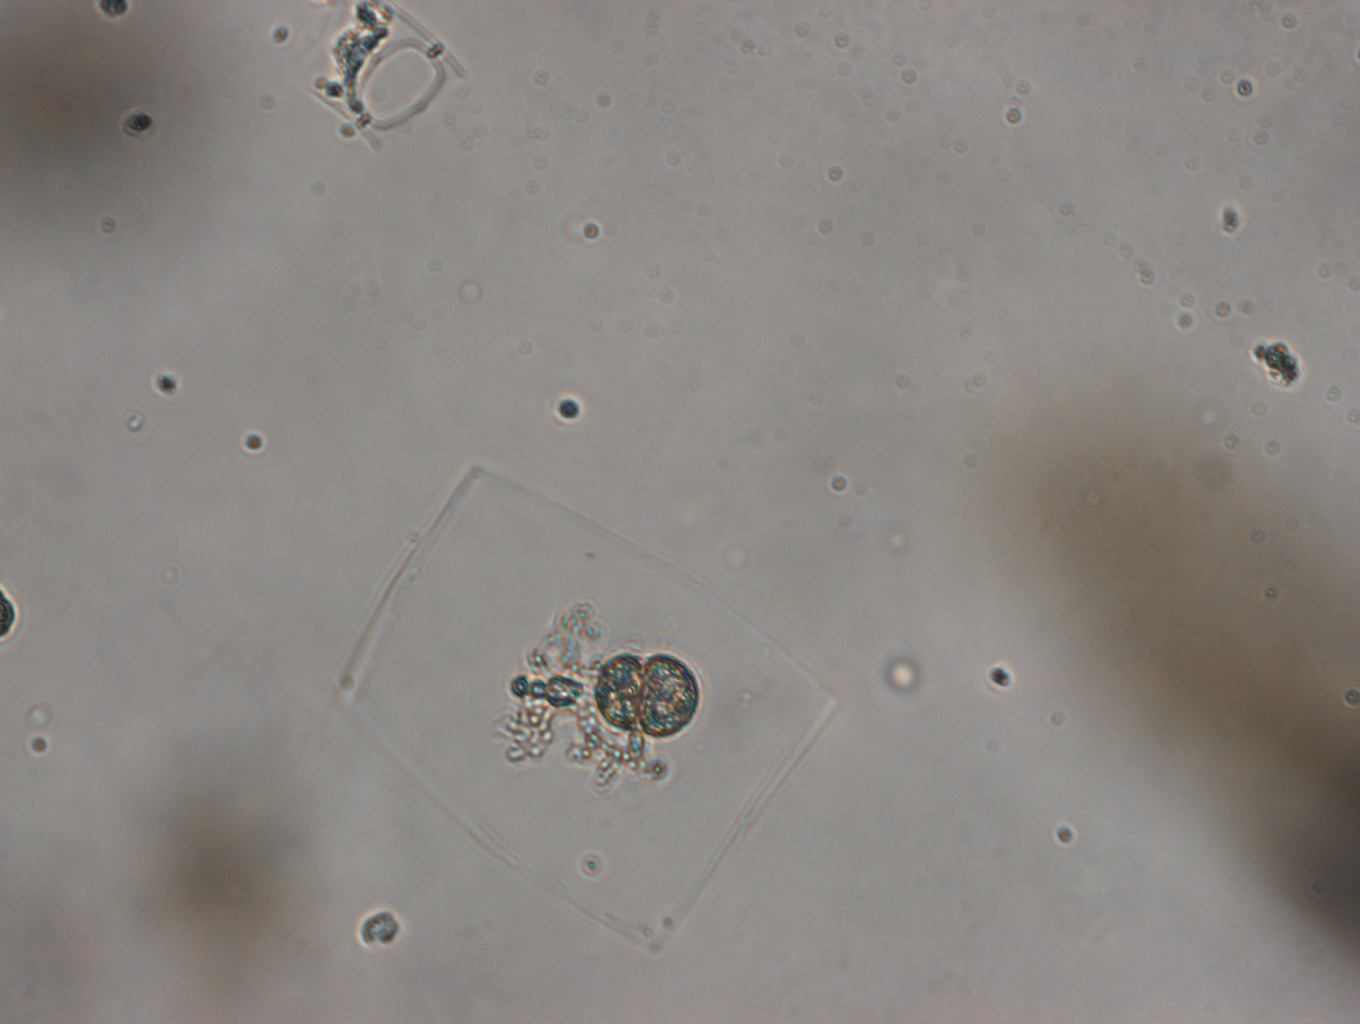eucampia: (291, 2, 469, 155)
helicotheca: (329, 449, 849, 955)
